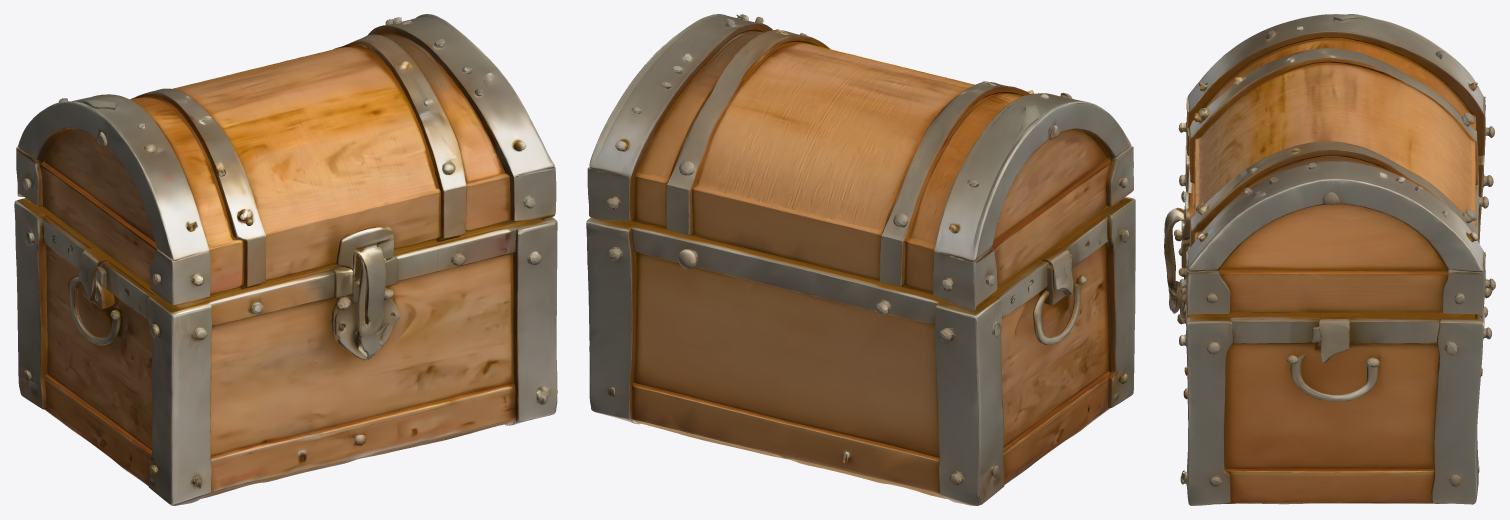
The model's file is chest.fbx.
3 views of the same model, side by side, from view 1: azimuth 30°, elevation 25°; view 2: azimuth 150°, elevation 25°; view 3: azimuth 270°, elevation 25° (orthographic). The views are drawn at different scales.
Visible parts, largest first — view 1: model; view 2: model; view 3: model.
Part boxes in pixels (x1=…): model: x1=14, y1=14, x2=557, y2=505; model: x1=586, y1=14, x2=1135, y2=505; model: x1=1164, y1=14, x2=1495, y2=505.
Bounding box in the file's own units: 190 × 156 × 142.
1 material, 1 textured.
